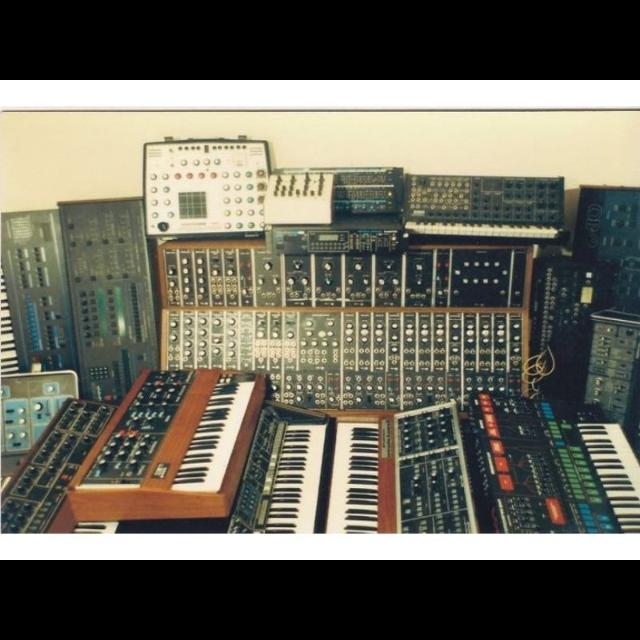Electronic-Keyboard: (478, 390, 624, 522), (104, 361, 234, 504), (328, 403, 458, 523), (404, 162, 572, 246), (250, 398, 314, 526)
